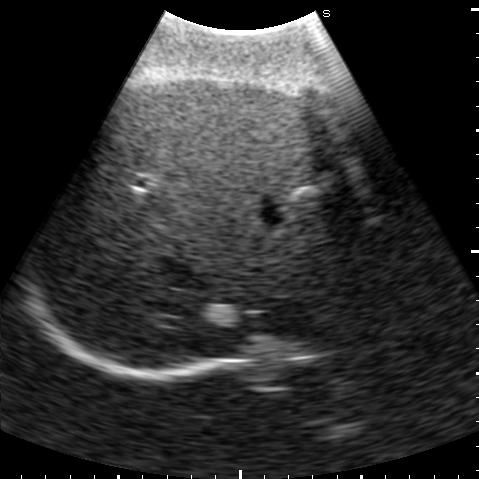S5: (106, 80, 344, 194)
S7: (44, 162, 157, 298)
S8: (91, 184, 377, 367)
Tumor: (203, 305, 237, 324)
